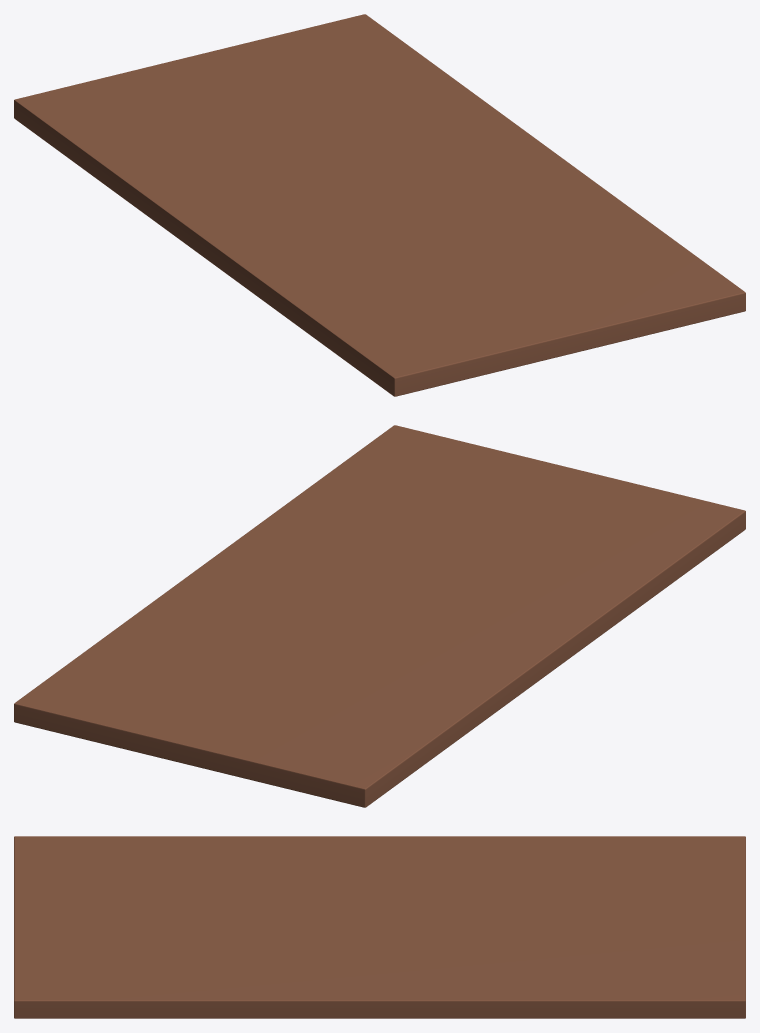
3 renders of one model, top to bottom at view 1: azimuth 30°, elevation 25°; view 2: azimuth 150°, elevation 25°; view 3: azimuth 270°, elevation 25°, orthographic. The views are drawn at different scales.
Visible parts, largest first — view 1: plane_03; view 2: plane_03; view 3: plane_03.
Part boxes in pixels (x1,y1,x2,y2): plane_03: (14,14,745,396); plane_03: (14,425,745,807); plane_03: (14,836,745,1018).
Size of the model in its own units: 53.35 by 2.8 by 100.
